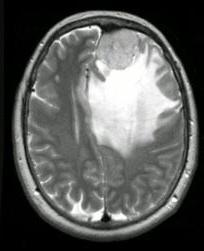Tumor: (89, 27, 149, 71)
